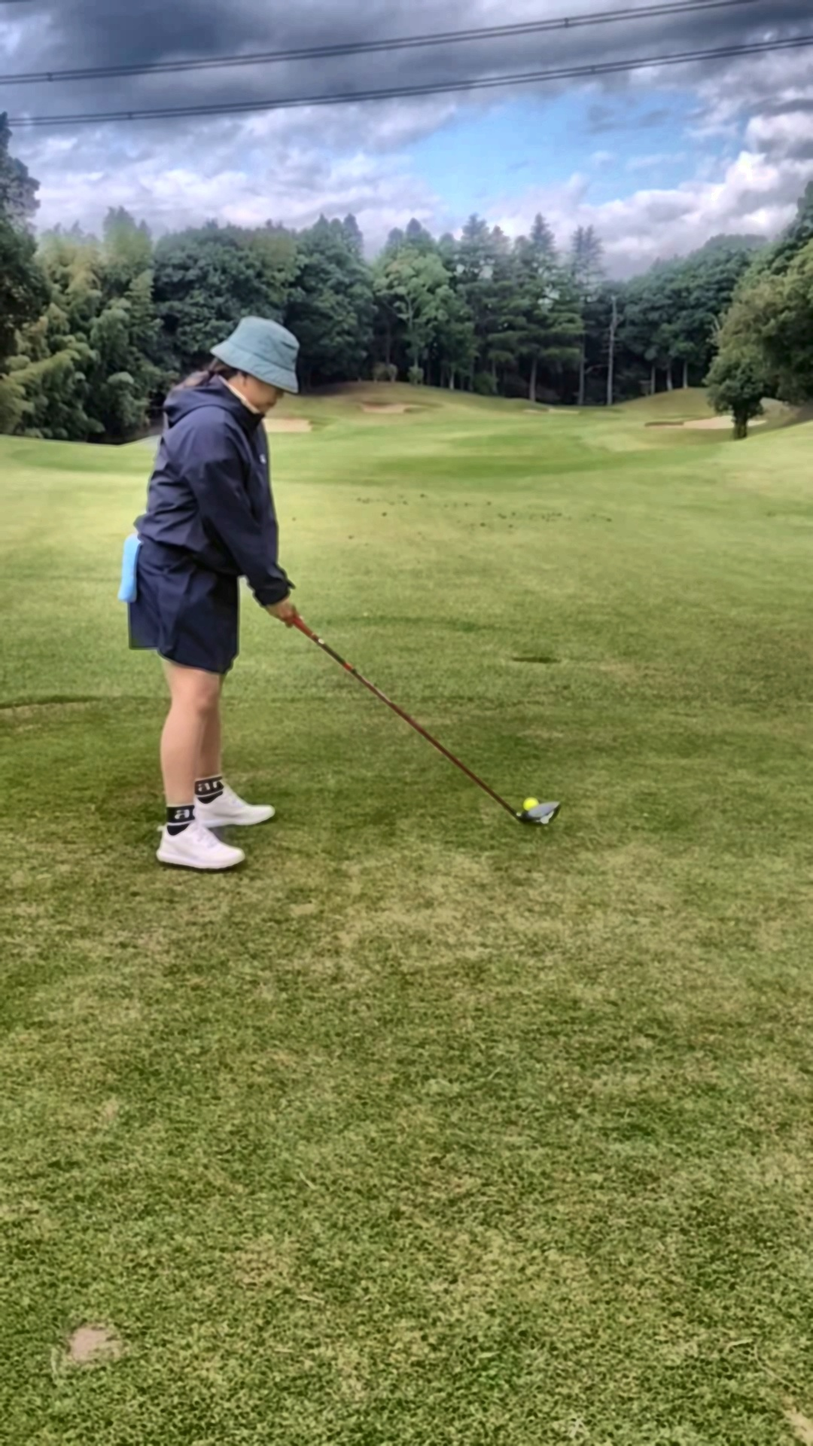clubhead: (446, 754, 642, 872)
